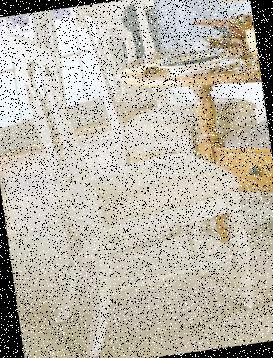Silla: (5, 3, 262, 357), (70, 0, 270, 244)
